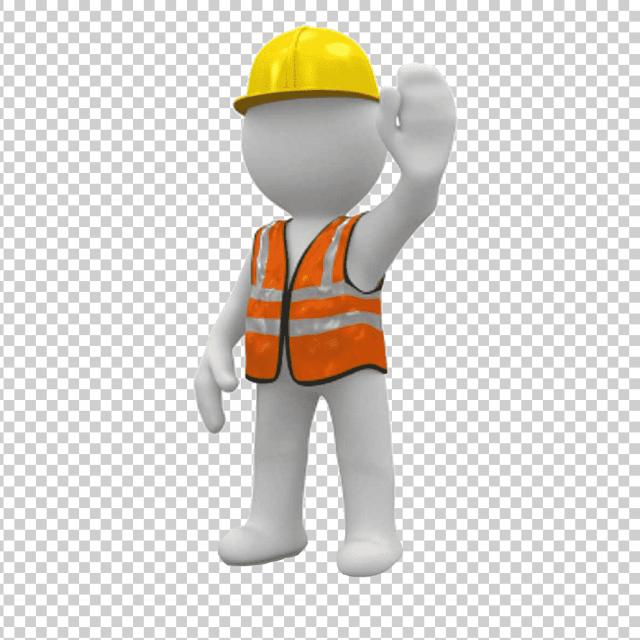Reflective-Jacket: (239, 205, 388, 387)
Safety-Helmet: (235, 24, 381, 117)
